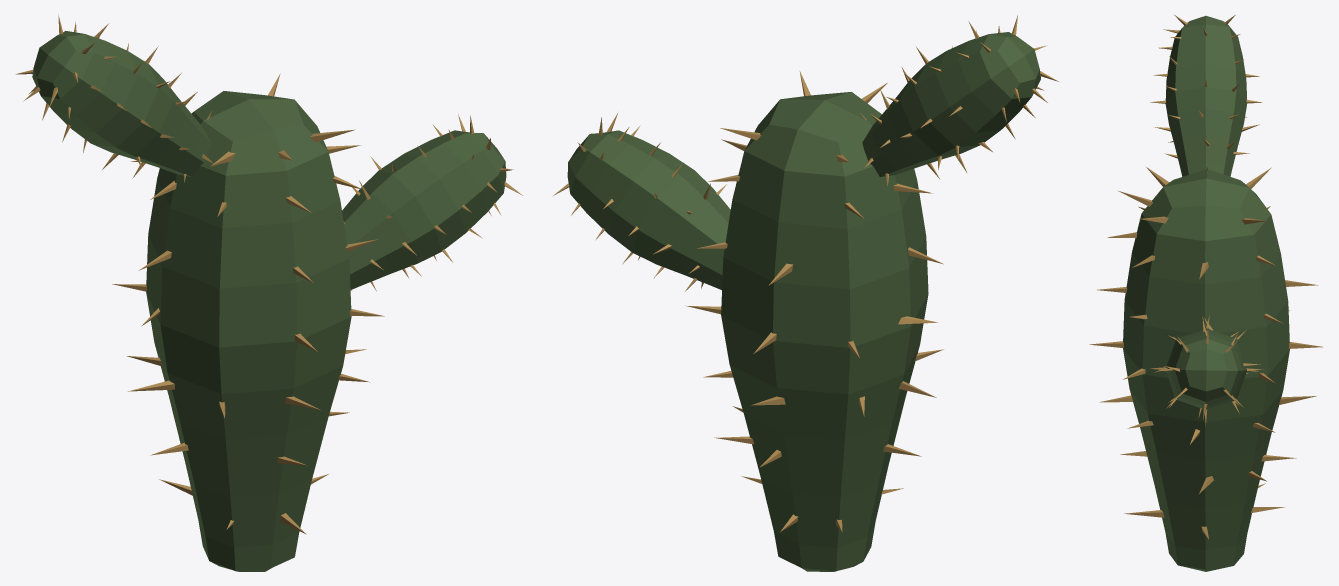
The model's file is Cactus_Harvested.glb.
3 views of the same model, side by side, from view 1: azimuth 30°, elevation 25°; view 2: azimuth 150°, elevation 25°; view 3: azimuth 270°, elevation 25° (orthographic). The views are drawn at different scales.
Visible parts, largest first — view 1: Cactus_Harvested; view 2: Cactus_Harvested; view 3: Cactus_Harvested.
Part boxes in pixels (left/top/right/bottom): Cactus_Harvested: left=15, top=14, right=522, bottom=571; Cactus_Harvested: left=553, top=15, right=1058, bottom=571; Cactus_Harvested: left=1089, top=15, right=1322, bottom=571.
Size of the model in its own units: 1.09 by 1.26 by 0.5629.
